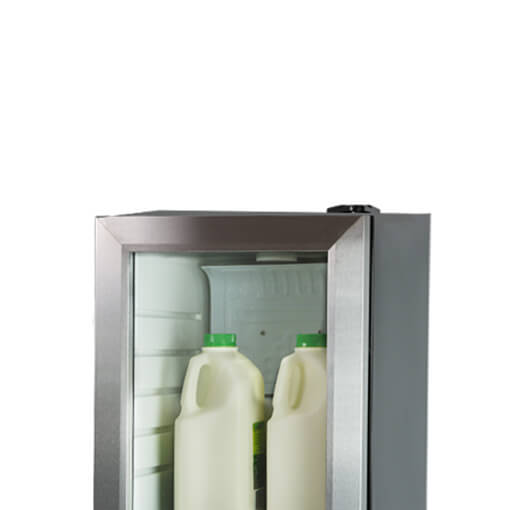milk: (171, 334, 328, 510)
